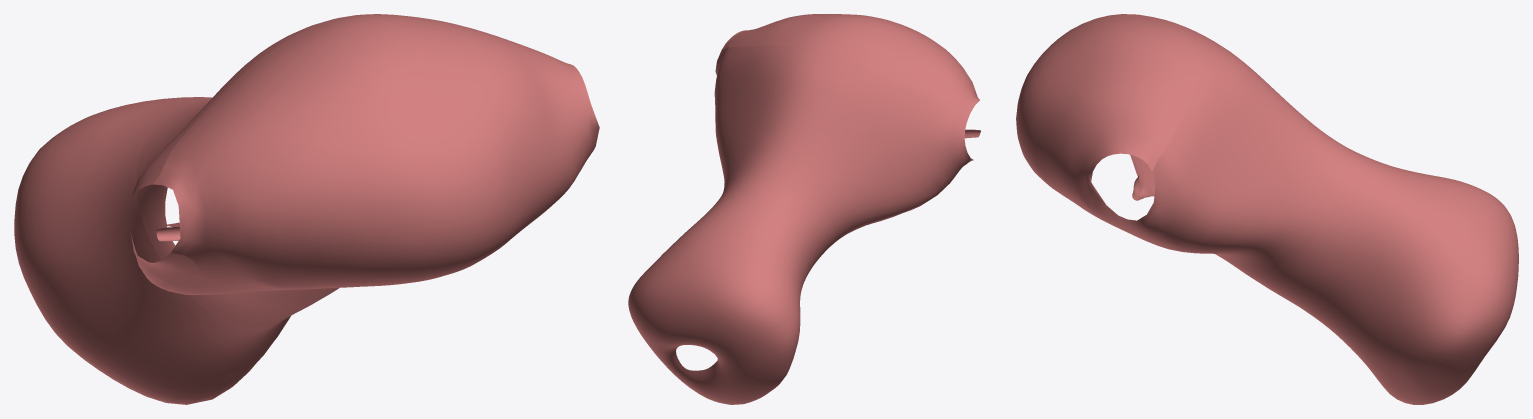
The model's file is 3d-vh-f-uterus.glb.
3 renders of one model, left to right at view 1: azimuth 30°, elevation 25°; view 2: azimuth 150°, elevation 25°; view 3: azimuth 270°, elevation 25°, orthographic. The views are drawn at different scales.
Visible parts, largest first — view 1: VH_F_fundus_of_uterus, VH_F_cervix, VH_F_body_of_uterus, VH_F_lower_uterine_segment; view 2: VH_F_body_of_uterus, VH_F_cervix, VH_F_fundus_of_uterus, VH_F_lower_uterine_segment; view 3: VH_F_cervix, VH_F_body_of_uterus, VH_F_fundus_of_uterus, VH_F_lower_uterine_segment.
Part boxes in pixels (x1=…): VH_F_fundus_of_uterus: x1=152, y1=14, x2=599, y2=290; VH_F_cervix: x1=14, y1=97, x2=290, y2=404; VH_F_body_of_uterus: x1=130, y1=18, x2=594, y2=311; VH_F_lower_uterine_segment: x1=136, y1=99, x2=310, y2=329; VH_F_body_of_uterus: x1=714, y1=45, x2=978, y2=244; VH_F_cervix: x1=628, y1=207, x2=808, y2=404; VH_F_fundus_of_uterus: x1=722, y1=14, x2=980, y2=136; VH_F_lower_uterine_segment: x1=709, y1=176, x2=834, y2=275; VH_F_cervix: x1=1312, y1=165, x2=1518, y2=404; VH_F_body_of_uterus: x1=1107, y1=33, x2=1343, y2=288; VH_F_fundus_of_uterus: x1=1016, y1=14, x2=1204, y2=228; VH_F_lower_uterine_segment: x1=1269, y1=144, x2=1392, y2=315.
Size of the model in its own units: 0.0431 by 0.047 by 0.0587.
